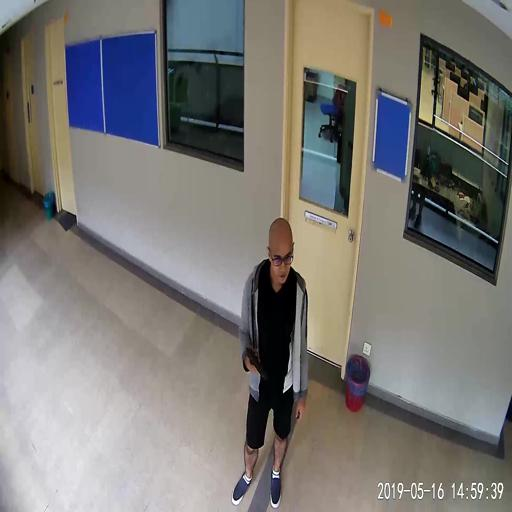pistol: (245, 347, 267, 380)
